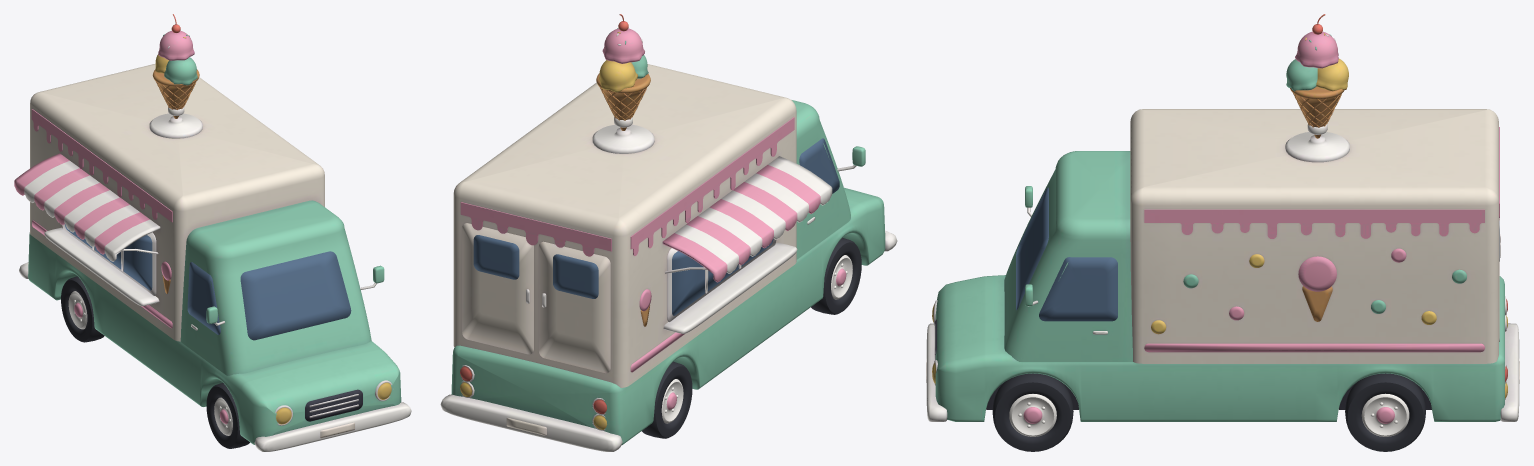
File: ice-cream-truck.glb
3 renders of one model, left to right at view 1: azimuth 30°, elevation 25°; view 2: azimuth 150°, elevation 25°; view 3: azimuth 270°, elevation 25°, orthographic. The views are drawn at different scales.
Parts seen in each view (by area): view 1: ice-cream-truck_body, ice-cream-truck_windows, ice-cream-truck_wheel_fr, ice-cream-truck_wheel_rr; view 2: ice-cream-truck_body, ice-cream-truck_rear_windows, ice-cream-truck_windows, ice-cream-truck_wheel_rr, ice-cream-truck_wheel_fr; view 3: ice-cream-truck_body, ice-cream-truck_windows, ice-cream-truck_wheel_rl, ice-cream-truck_wheel_fl.
Boxes of the visible parts, x1,y1,x2,y2 form: ice-cream-truck_body: (14,14,411,451); ice-cream-truck_windows: (65,224,351,340); ice-cream-truck_wheel_fr: (206,383,249,448); ice-cream-truck_wheel_rr: (61,276,104,342); ice-cream-truck_body: (440,14,897,451); ice-cream-truck_rear_windows: (473,235,598,298); ice-cream-truck_windows: (672,138,839,315); ice-cream-truck_wheel_rr: (642,361,692,438); ice-cream-truck_wheel_fr: (811,237,861,314); ice-cream-truck_body: (926,14,1519,421); ice-cream-truck_windows: (1016,187,1117,321); ice-cream-truck_wheel_rl: (1345,373,1425,451); ice-cream-truck_wheel_fl: (992,373,1073,451).
Bounding box in the file's own units: 2.88 × 4.33 × 5.86.
15 materials, 1 textured.
